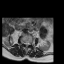CCS_normal: (26, 41, 27, 48)
LFS_normal: (29, 41, 30, 46)
LLS_normal: (27, 41, 29, 46)
RFS_normal: (23, 40, 24, 45)
RLS_normal: (24, 41, 26, 46)
